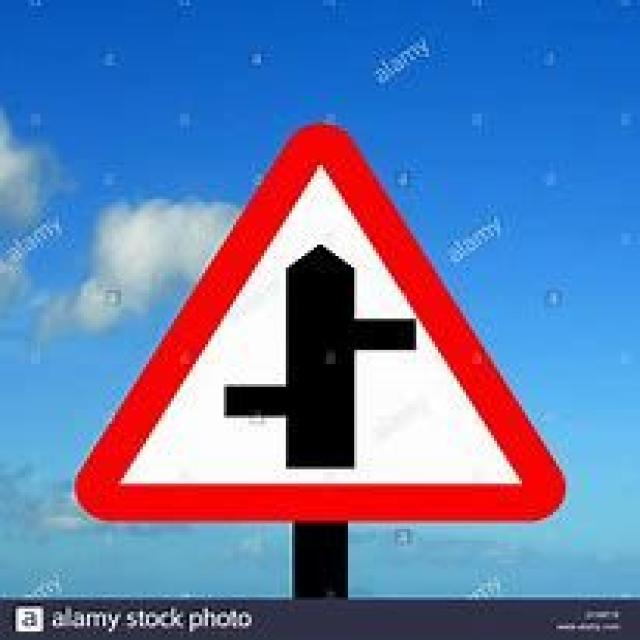STAGGERED_INTERSECTION: (61, 115, 590, 541)
